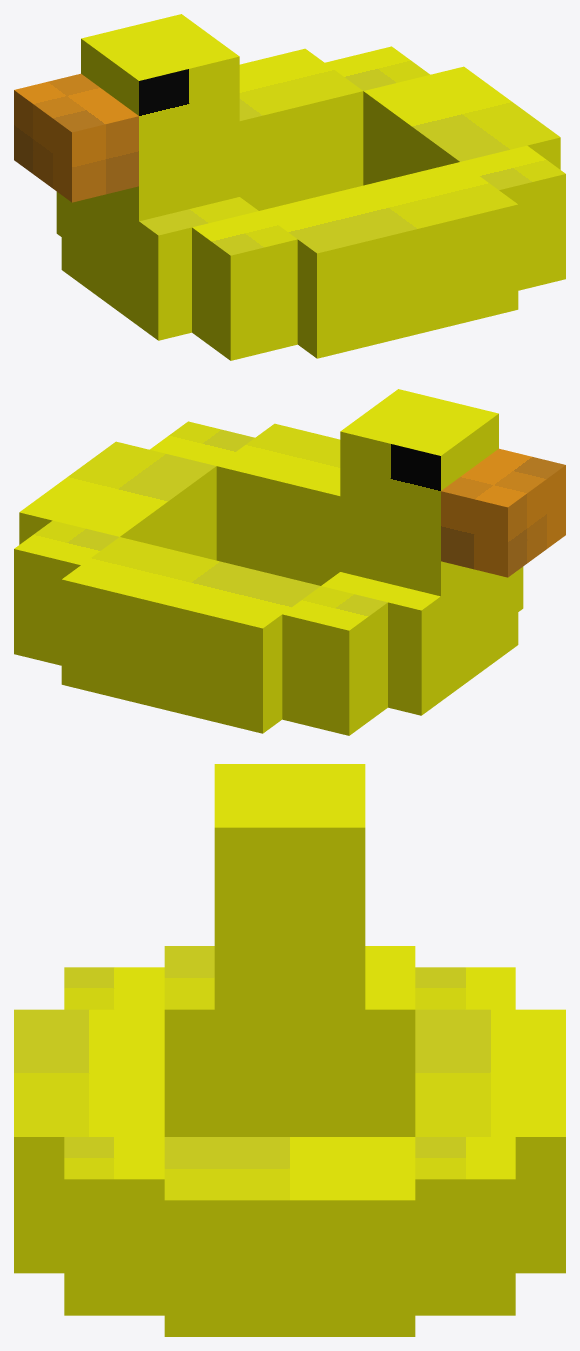
Rendered from Duck.gltf.
3 renders of one model, top to bottom at view 1: azimuth 30°, elevation 25°; view 2: azimuth 150°, elevation 25°; view 3: azimuth 270°, elevation 25°, orthographic. The views are drawn at different scales.
Parts seen in each view (by area): view 1: cube (×10); view 2: cube (×10); view 3: cube (×10).
Part boxes in pixels (box(x1,y1,x2,y2)): cube (×10): box(14, 14, 565, 360); cube (×10): box(14, 389, 565, 735); cube (×10): box(14, 764, 565, 1336).
Bounding box in the file's own units: 0.875 × 0.4375 × 0.6875.
1 material, 1 textured.
